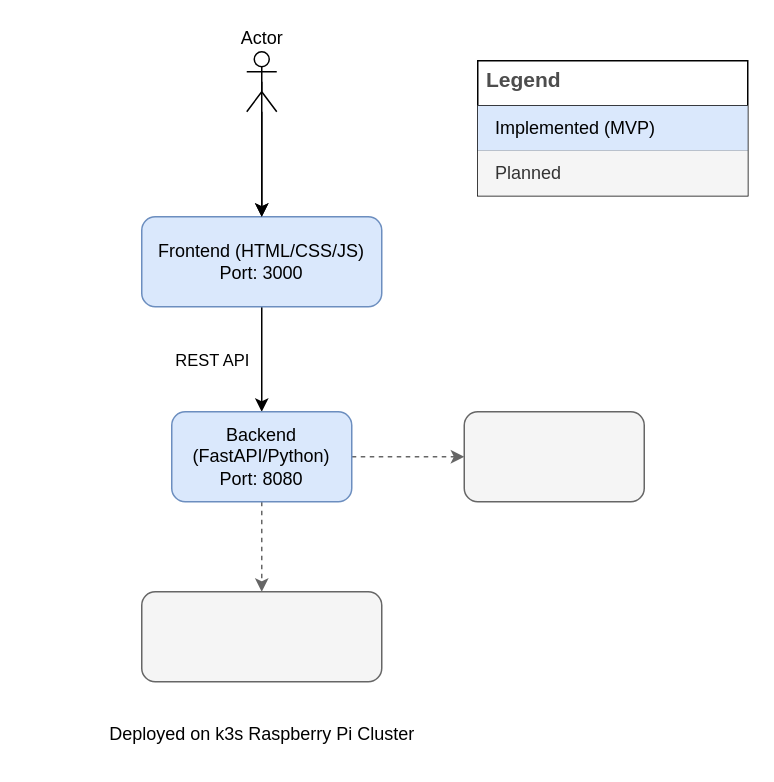
Image size: 774x782. Some labels were removed from this diagram. The shapes that lost their labels are listed below. From the top down, each one's centre as x and y in pixels, then its label:
point (553, 456): Spotify API
point (261, 636): Genre Classifier (ML model)
